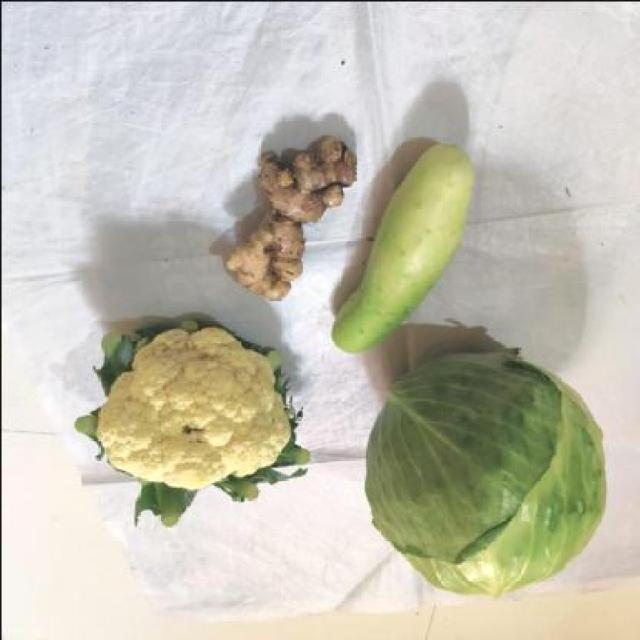Cabbage: (363, 346, 609, 599)
Cauliflower: (74, 316, 308, 522)
Ginger: (231, 121, 346, 297)
cucumber: (352, 147, 463, 350)
